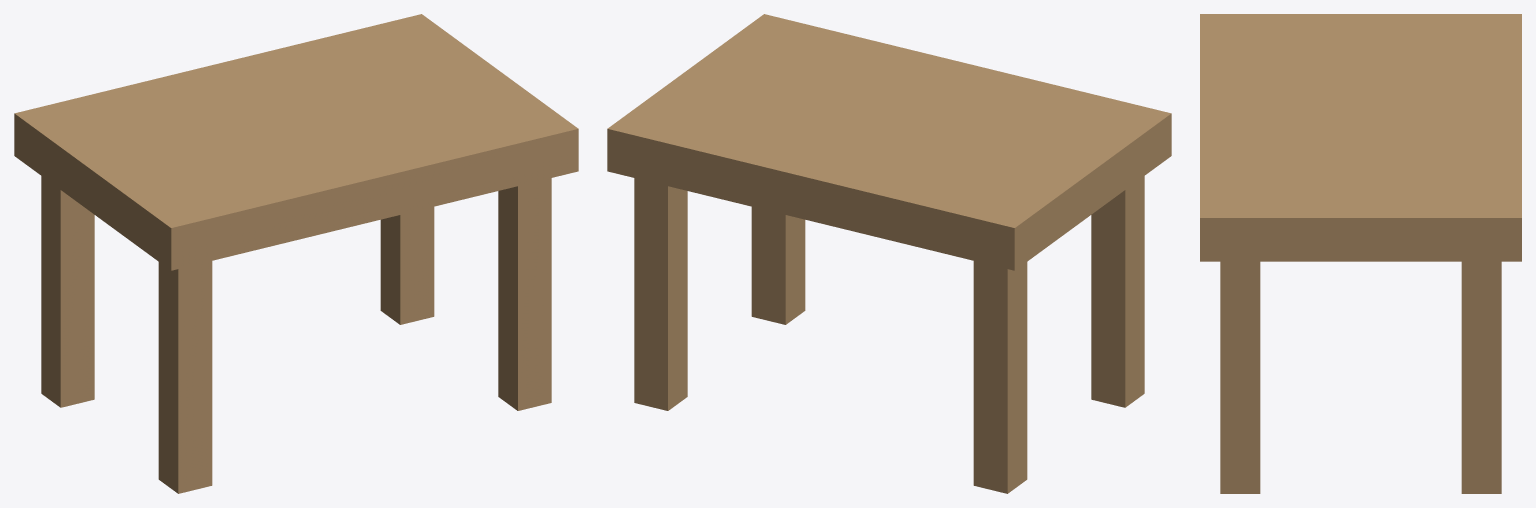
File: Table.glb
3 views of the same model, side by side, from view 1: azimuth 30°, elevation 25°; view 2: azimuth 150°, elevation 25°; view 3: azimuth 270°, elevation 25° (orthographic). The views are drawn at different scales.
Visible parts, largest first — view 1: filler_Table; view 2: filler_Table; view 3: filler_Table.
Boxes of the visible parts, x1,y1,x2,y2 form: filler_Table: (14, 14, 578, 493); filler_Table: (607, 14, 1171, 493); filler_Table: (1200, 14, 1521, 493).
Bounding box in the file's own units: 1.2 × 0.78 × 0.8.
